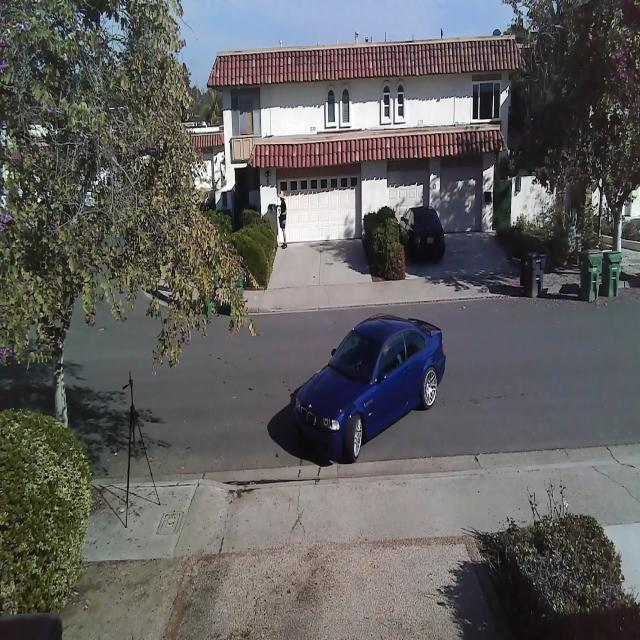Carbeetle: (279, 309, 457, 469)
Civilian: (399, 205, 445, 263)
